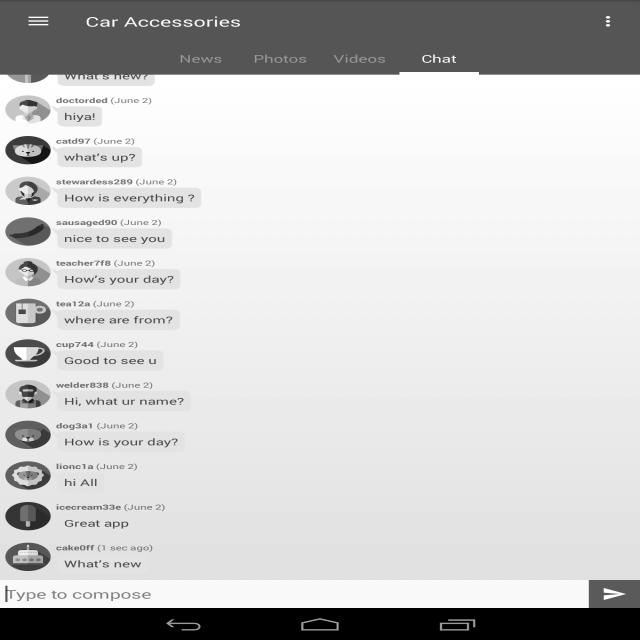EditText: (0, 580, 589, 608)
ImageButton: (9, 0, 68, 43), (589, 580, 640, 608)
ImageView: (589, 5, 631, 38), (5, 95, 51, 124), (5, 217, 51, 246), (5, 339, 51, 368), (5, 461, 51, 490), (5, 55, 51, 83), (5, 136, 51, 164), (5, 177, 51, 205), (5, 258, 51, 286), (5, 299, 51, 327), (5, 380, 51, 408), (5, 421, 51, 449), (5, 502, 51, 530), (5, 543, 51, 571)
TextView: (50, 186, 204, 211), (51, 390, 193, 414), (51, 430, 187, 455), (51, 308, 182, 333), (51, 268, 183, 292), (51, 227, 174, 251), (85, 12, 241, 30), (51, 349, 166, 373), (51, 64, 157, 89), (51, 552, 150, 577), (50, 146, 144, 170), (51, 512, 138, 536), (50, 471, 106, 495), (50, 105, 104, 129), (56, 502, 165, 512), (56, 177, 177, 186), (56, 217, 162, 227), (56, 258, 155, 268), (56, 380, 153, 390), (56, 95, 152, 105), (56, 543, 153, 552), (56, 339, 138, 349), (56, 461, 138, 471), (254, 51, 308, 66), (333, 51, 386, 66), (56, 136, 135, 146), (56, 421, 138, 430), (56, 299, 134, 308), (180, 51, 222, 66), (422, 51, 456, 66)
